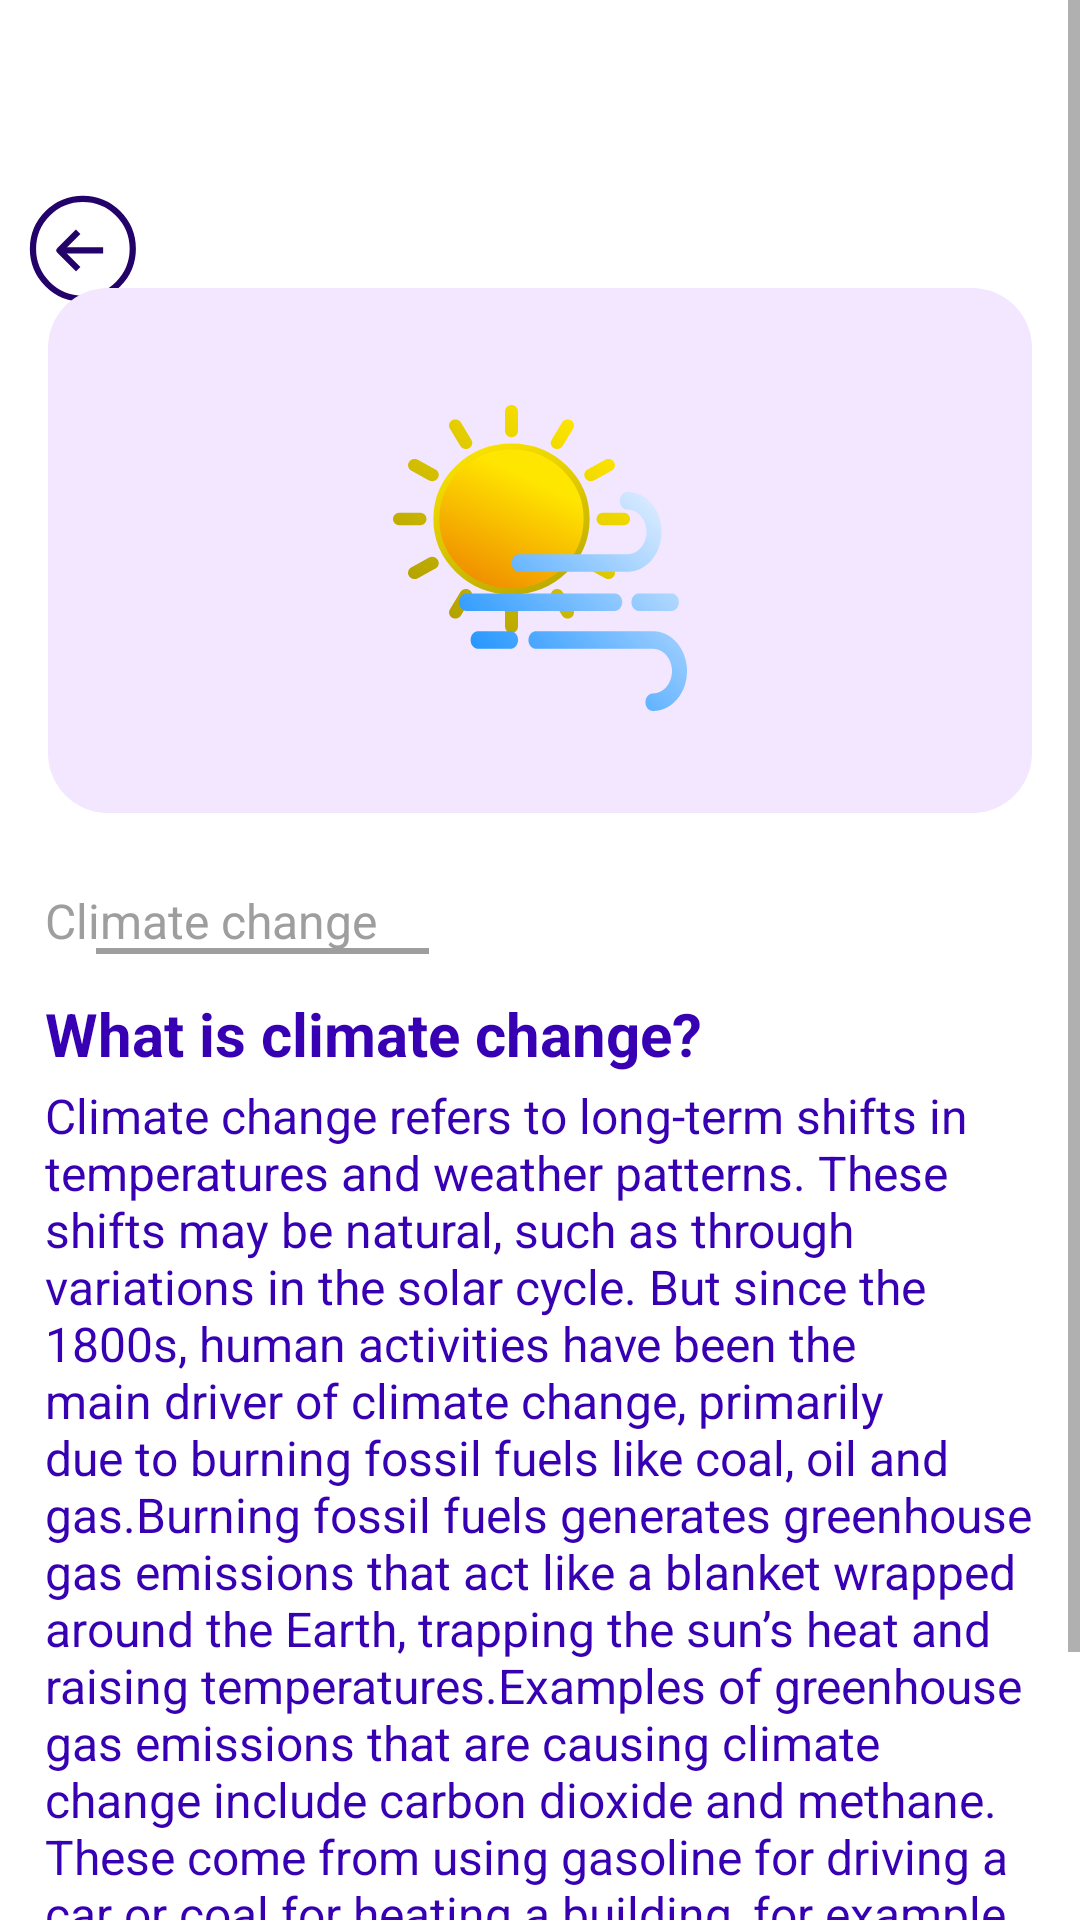

Where to tap for icons on this 1080*1920 app screen, as (x,y):
back arrow: (82,248)
